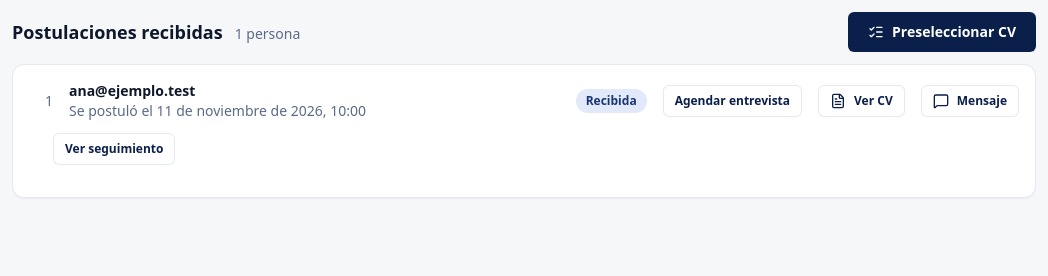
Scenario: Postulaciones recibidas (empresa) › si el permiso se retiró mientras tanto, cierra la pestaña y lo explica
Click the button with aria-label "Ver el CV de": click(861, 101) left=818, top=85, right=905, bottom=117
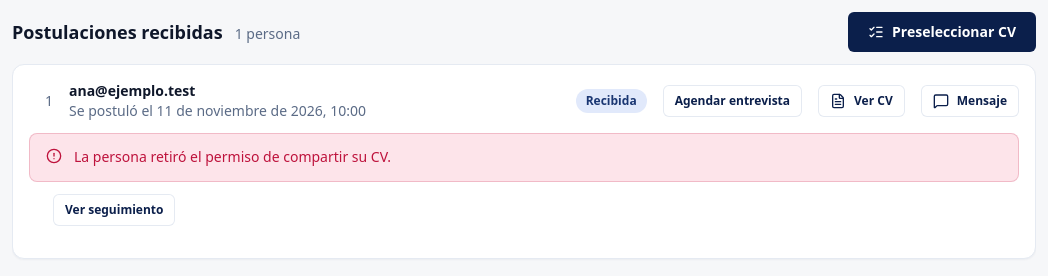
Expected: the message reads "La persona retiró el permiso de compartir su CV.", left=74, top=147, right=391, bottom=166
